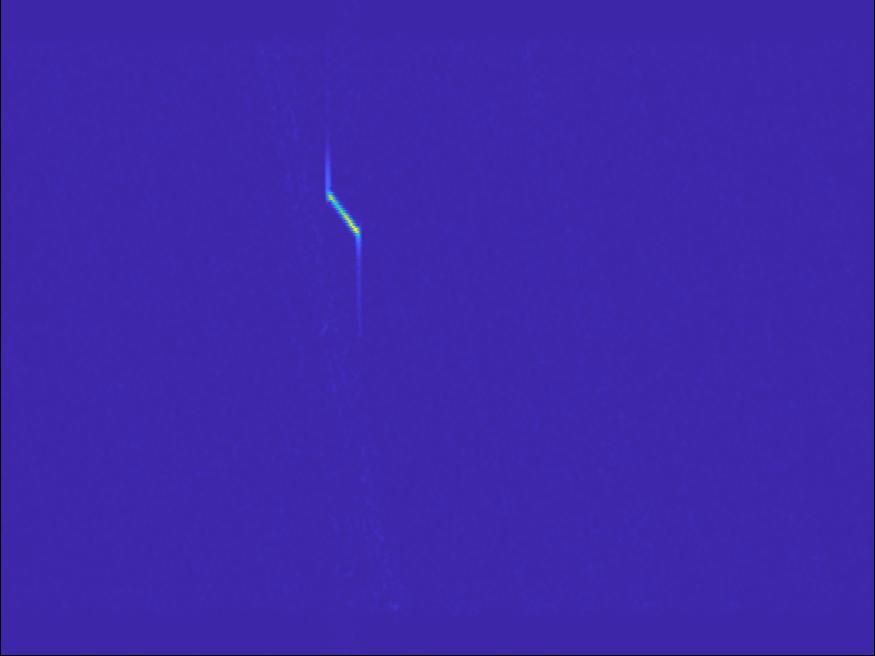Interference: (122, 279, 268, 354), (300, 303, 423, 353), (54, 233, 123, 281)
